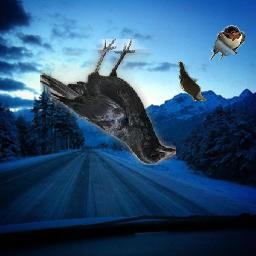Crow: (40, 39, 176, 165)
Cuckoo: (177, 61, 207, 102)
Swallow: (209, 26, 245, 61)
